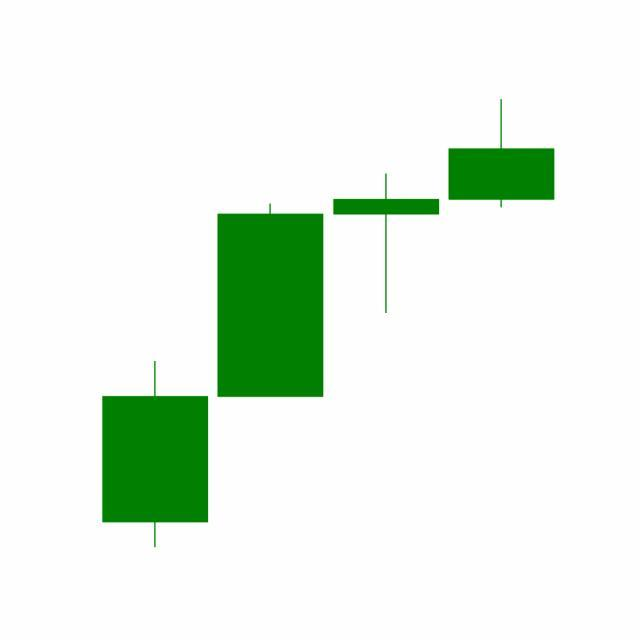Hanging Man: (329, 172, 445, 316)
